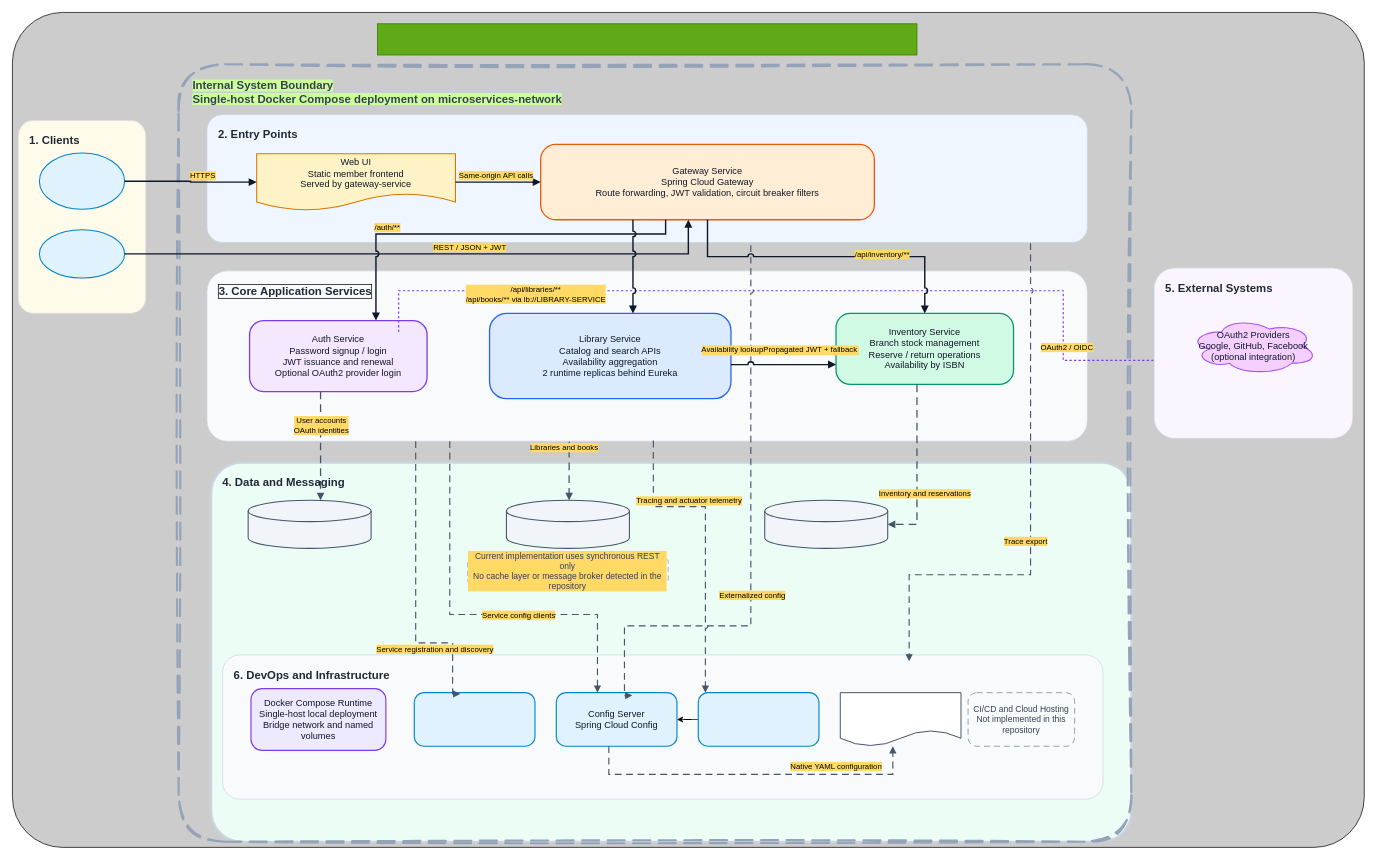
Some shapes in this 1377 by 860 pixel diagram are drawn without their labels. Each missing label, with the centre of its shape:
"API Consumers" goes at point (82, 253).
"Browser Users" goes at point (82, 181).
"Discovery Server Eureka registry" goes at point (474, 719).
"High-Level Application Architecture" goes at point (647, 39).
"MySQL auth_db" goes at point (309, 524).
"MySQL inventory_db" goes at point (826, 524).
"MySQL library_db" goes at point (568, 524).
"Native Config Repo config-repo/*.yml" goes at point (900, 719).
"Zipkin Distributed tracing" goes at point (758, 719).
